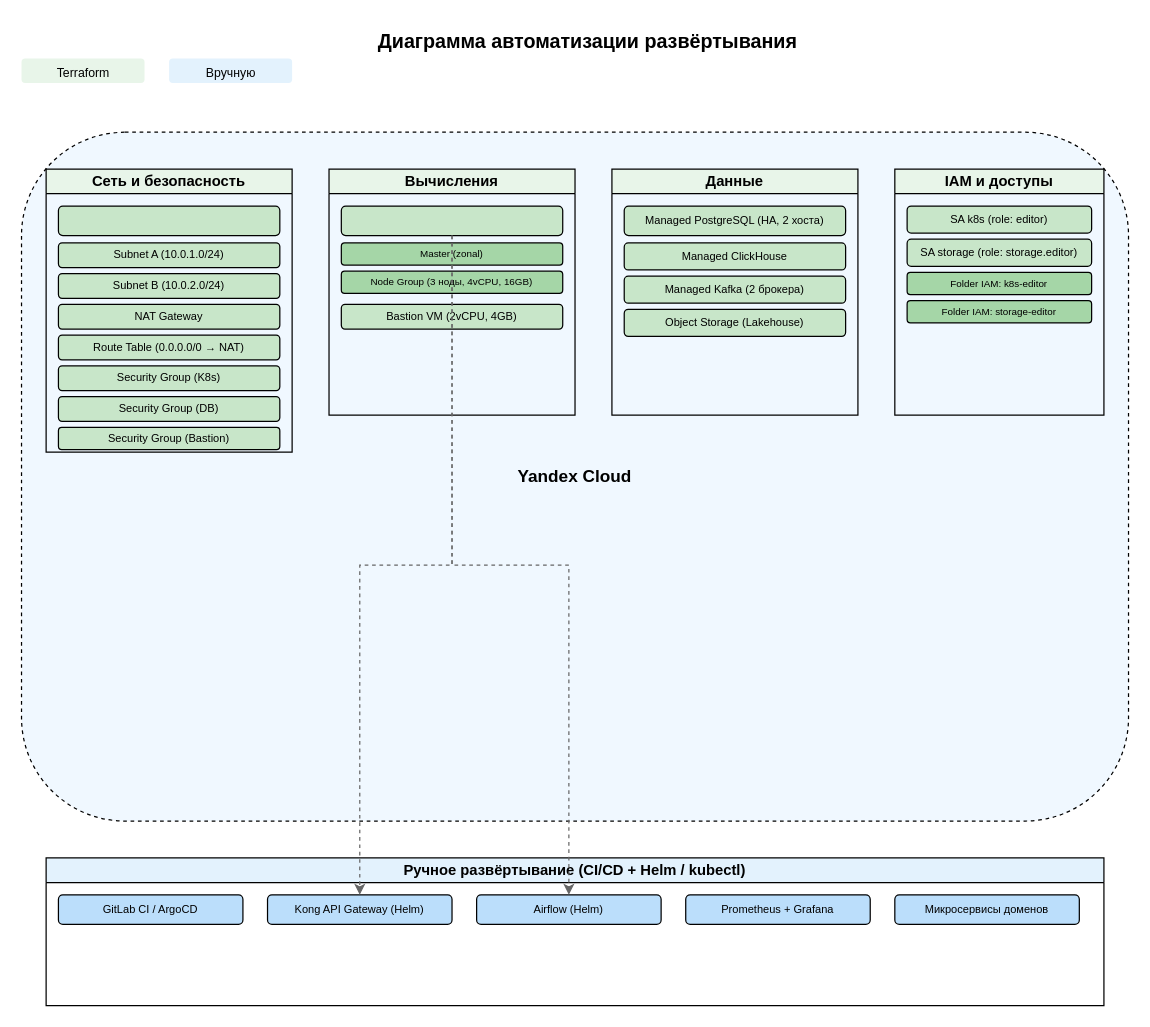
Image size: 1150x1027. Some labels were removed from this diagram. Each missing label, with the centre of its shape:
"Managed Kubernetes" belongs at point (451, 220).
"VPC Network\narch-network" belongs at point (168, 220).
